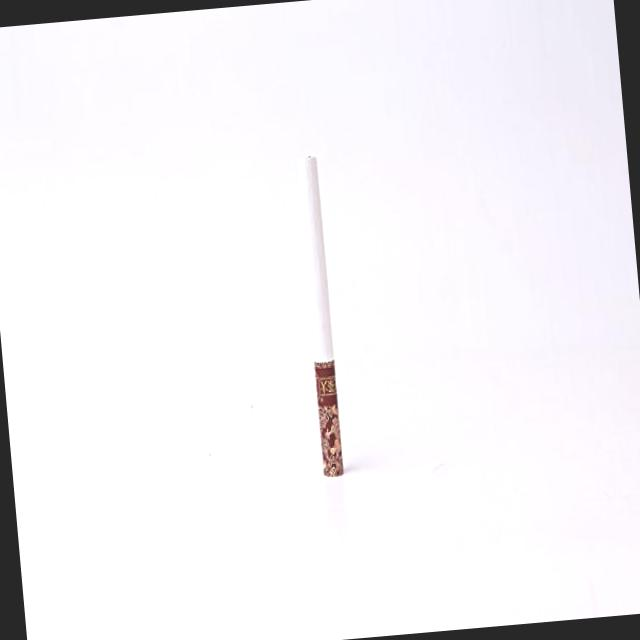cigarette: (290, 140, 354, 484)
